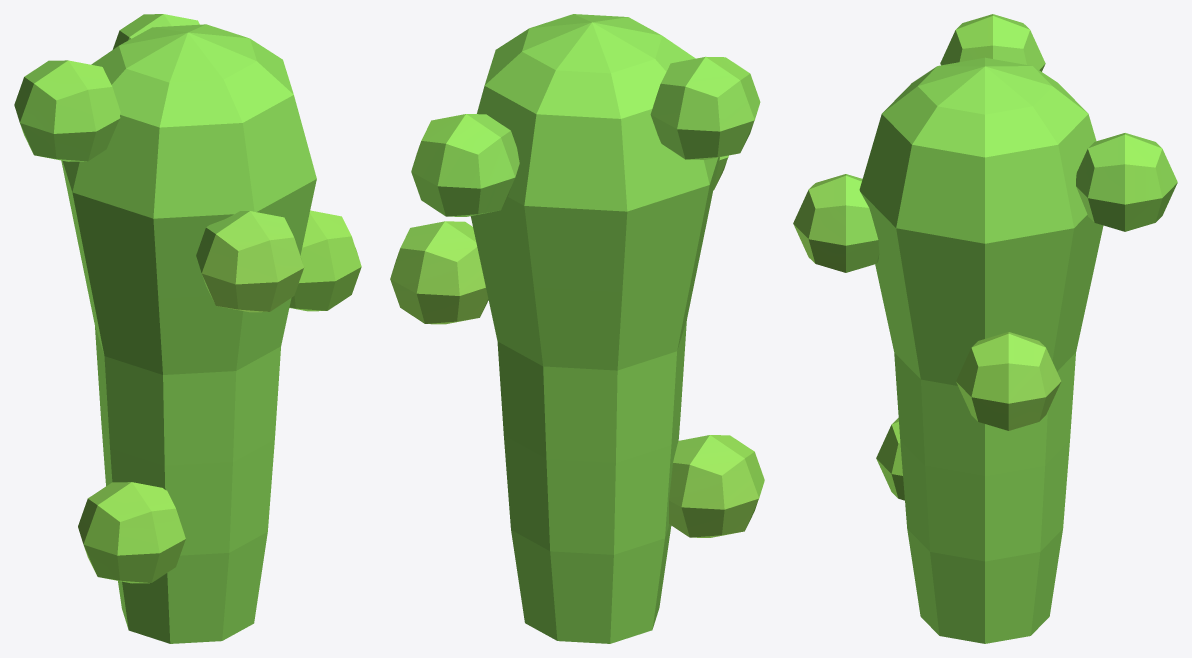
Rendered from cactus3.fbx.
3 views of the same model, side by side, from view 1: azimuth 30°, elevation 25°; view 2: azimuth 150°, elevation 25°; view 3: azimuth 270°, elevation 25° (orthographic). The views are drawn at different scales.
Parts seen in each view (by area): view 1: Cylinder.011; view 2: Cylinder.011; view 3: Cylinder.011.
Part boxes in pixels (box(x1,y1,x2,y2)): Cylinder.011: box(14, 14, 361, 643); Cylinder.011: box(390, 14, 764, 643); Cylinder.011: box(793, 14, 1177, 643).
Bounding box in the file's own units: 113 × 183 × 116.
